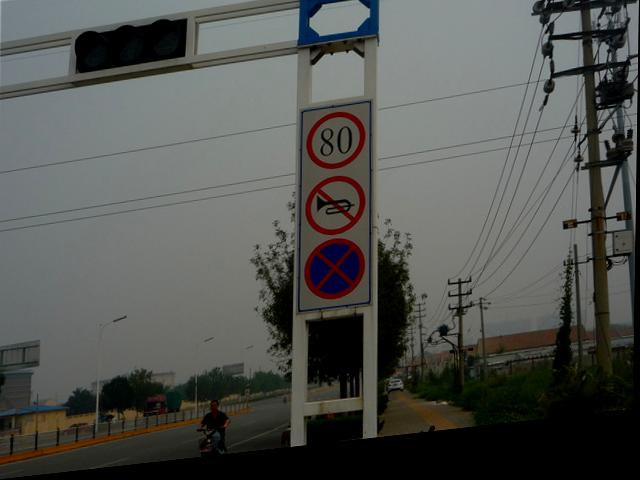limit80: (308, 117, 368, 180)
